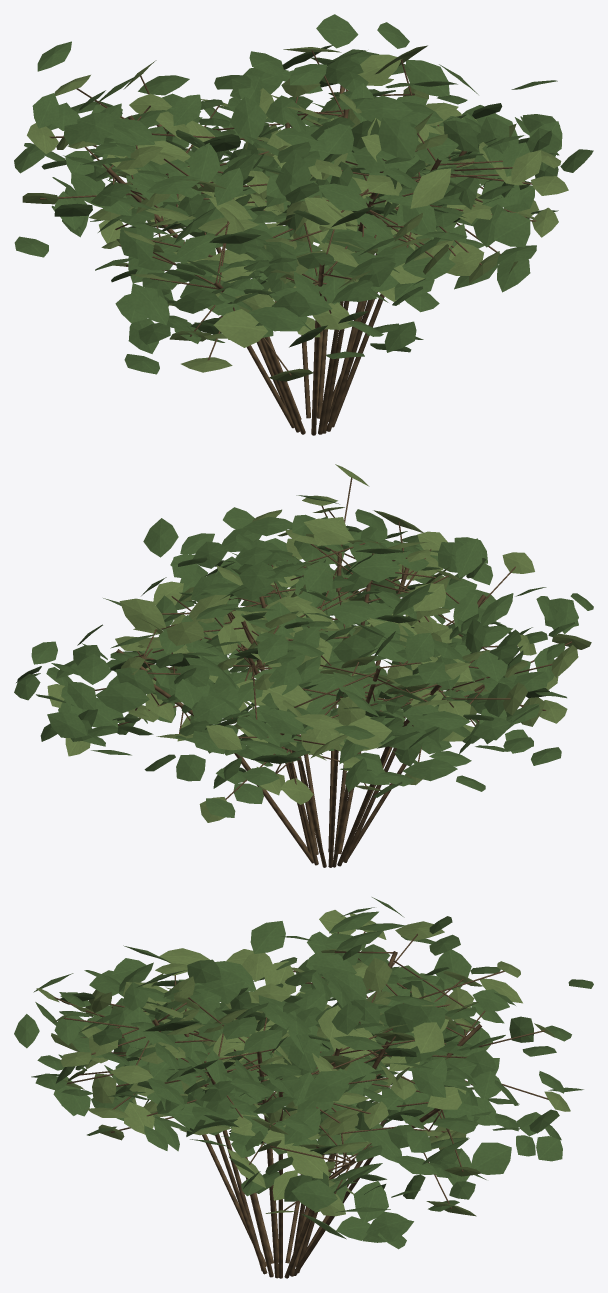
Rendered from bush_large.glb.
The picture shows the model from 3 angles, top to bottom: view 1: azimuth 30°, elevation 25°; view 2: azimuth 150°, elevation 25°; view 3: azimuth 270°, elevation 25°; orthographic projection. The views are drawn at different scales.
Parts seen in each view (by area): view 1: Bush; view 2: Bush; view 3: Bush.
Boxes of the visible parts, x1,y1,x2,y2 form: Bush: [14, 14, 593, 435]; Bush: [14, 464, 593, 867]; Bush: [14, 897, 593, 1278].
Bounding box in the file's own units: 2.37 × 1.4 × 2.36.
3 materials, 3 textured.
